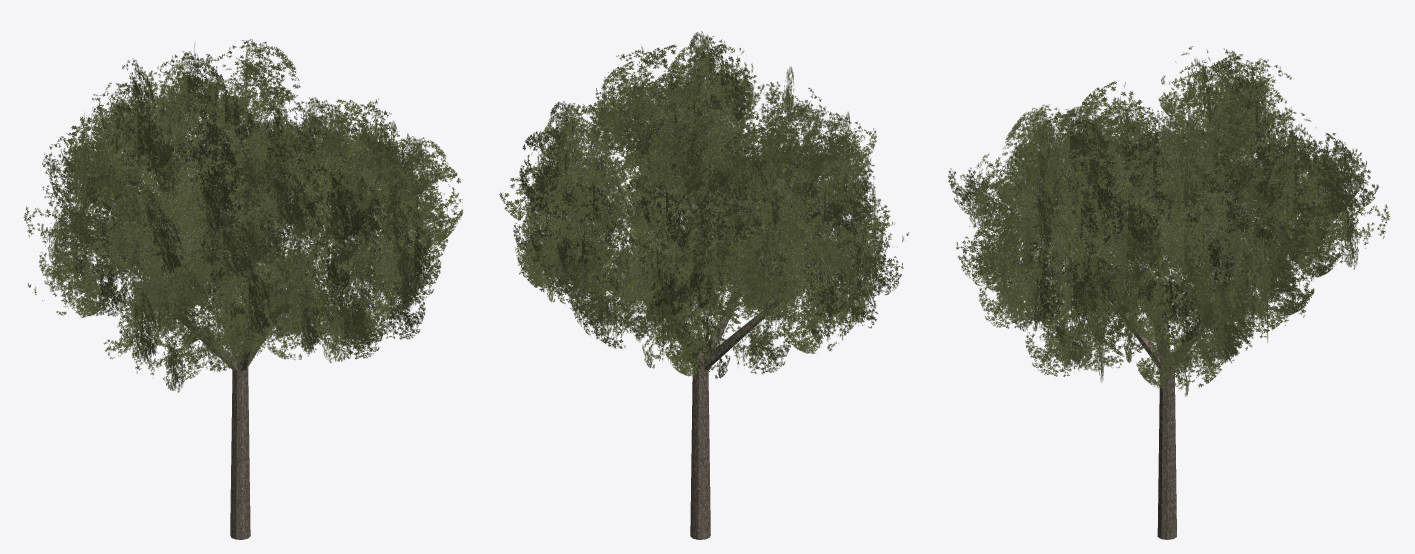
The model's file is tree-camphor.glb.
The picture shows the model from 3 angles, left to right: view 1: azimuth 30°, elevation 25°; view 2: azimuth 150°, elevation 25°; view 3: azimuth 270°, elevation 25°; orthographic projection.
Parts seen in each view (by area): view 1: TreeCamphor; view 2: TreeCamphor; view 3: TreeCamphor.
Boxes of the visible parts, x1,y1,x2,y2 form: TreeCamphor: [23, 39, 462, 539]; TreeCamphor: [499, 31, 908, 539]; TreeCamphor: [948, 46, 1390, 539].
Size of the model in its own units: 8.01 by 9.02 by 8.05.
Materials: 4 (4 with a texture image).
